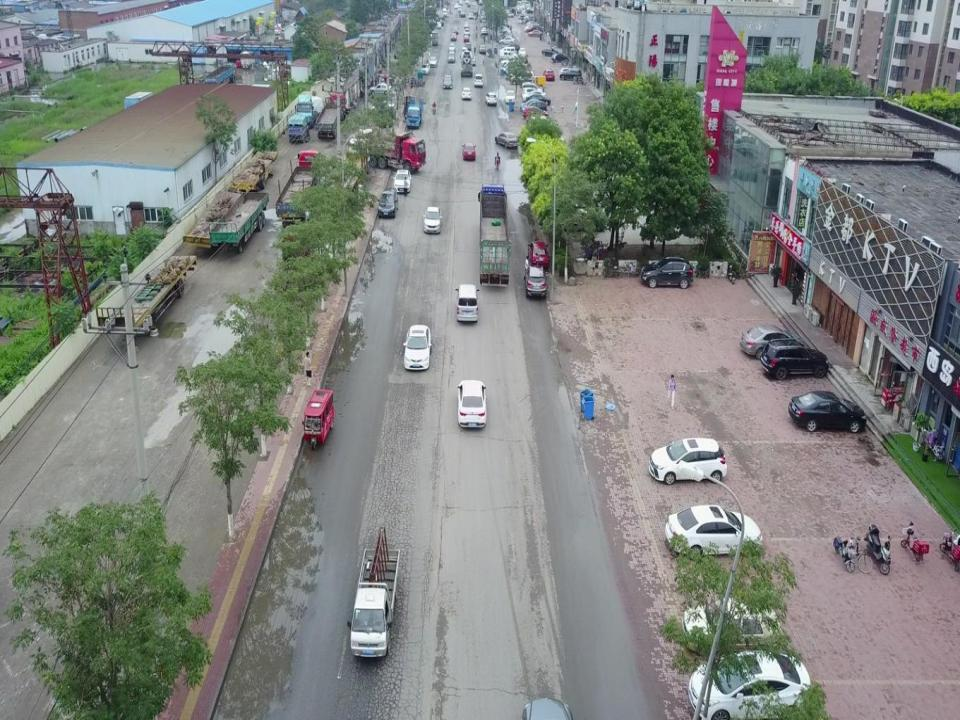car: (688, 649, 815, 719), (683, 593, 784, 652), (664, 504, 763, 559), (648, 436, 727, 483), (788, 391, 867, 433), (762, 337, 830, 380), (641, 256, 694, 288), (456, 380, 486, 428), (402, 324, 431, 371), (524, 266, 548, 298), (527, 241, 551, 268), (377, 188, 398, 218), (422, 206, 442, 234), (393, 168, 412, 194), (495, 131, 518, 149), (522, 106, 548, 118), (522, 81, 544, 95), (526, 93, 551, 105), (522, 102, 548, 113), (520, 99, 543, 111), (370, 83, 392, 95), (560, 69, 582, 81), (461, 142, 476, 159), (521, 89, 546, 99), (522, 87, 546, 97), (541, 47, 560, 57), (551, 53, 570, 62), (485, 92, 497, 106), (543, 68, 555, 81), (442, 74, 453, 88), (461, 87, 471, 100), (420, 62, 430, 75), (528, 30, 543, 37), (428, 56, 438, 66), (518, 46, 526, 57), (479, 44, 487, 53), (470, 55, 477, 65), (481, 26, 487, 34), (449, 43, 455, 51), (453, 25, 458, 34), (450, 33, 456, 40), (464, 34, 469, 42), (436, 22, 442, 28), (463, 23, 469, 28)
truck: (346, 525, 402, 659), (275, 149, 323, 225), (477, 182, 511, 289), (359, 129, 426, 172), (315, 92, 347, 140), (296, 93, 323, 128), (286, 112, 309, 143), (460, 49, 473, 78), (431, 31, 439, 45)
van: (456, 282, 479, 324), (510, 70, 534, 84), (498, 46, 516, 58), (497, 50, 515, 61)
